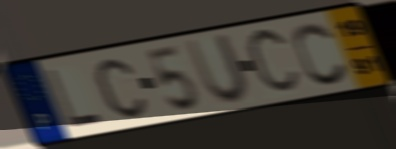5: (143, 43, 200, 113)
C: (244, 24, 304, 100), (292, 20, 351, 87), (93, 56, 149, 120)
L: (42, 66, 105, 130)
U: (182, 31, 253, 107)
